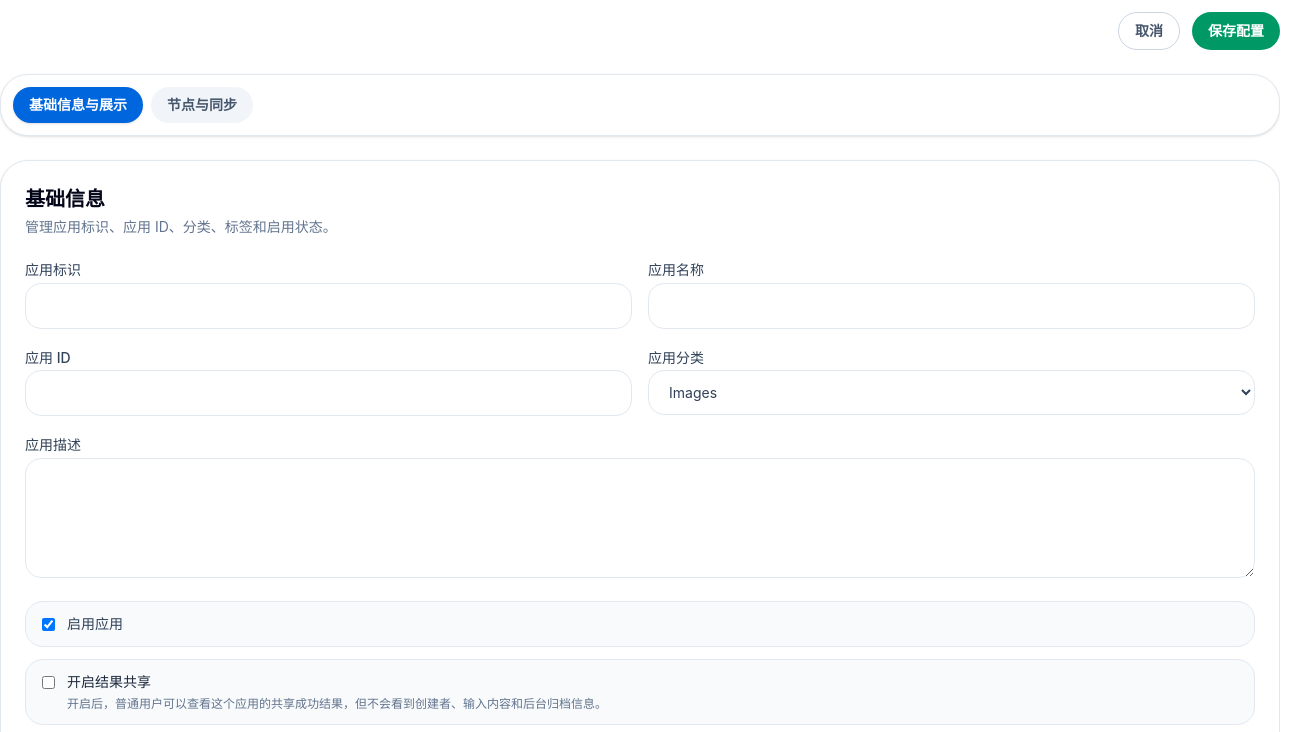
Test: AppFormEditor › uses provider app id as fallback code when the app name cannot produce an ASCII slug
Type "一键换装：完美替换衣物" into the field with test id "app-name-input" at (952, 306), box left=648, top=282, right=1255, bottom=328
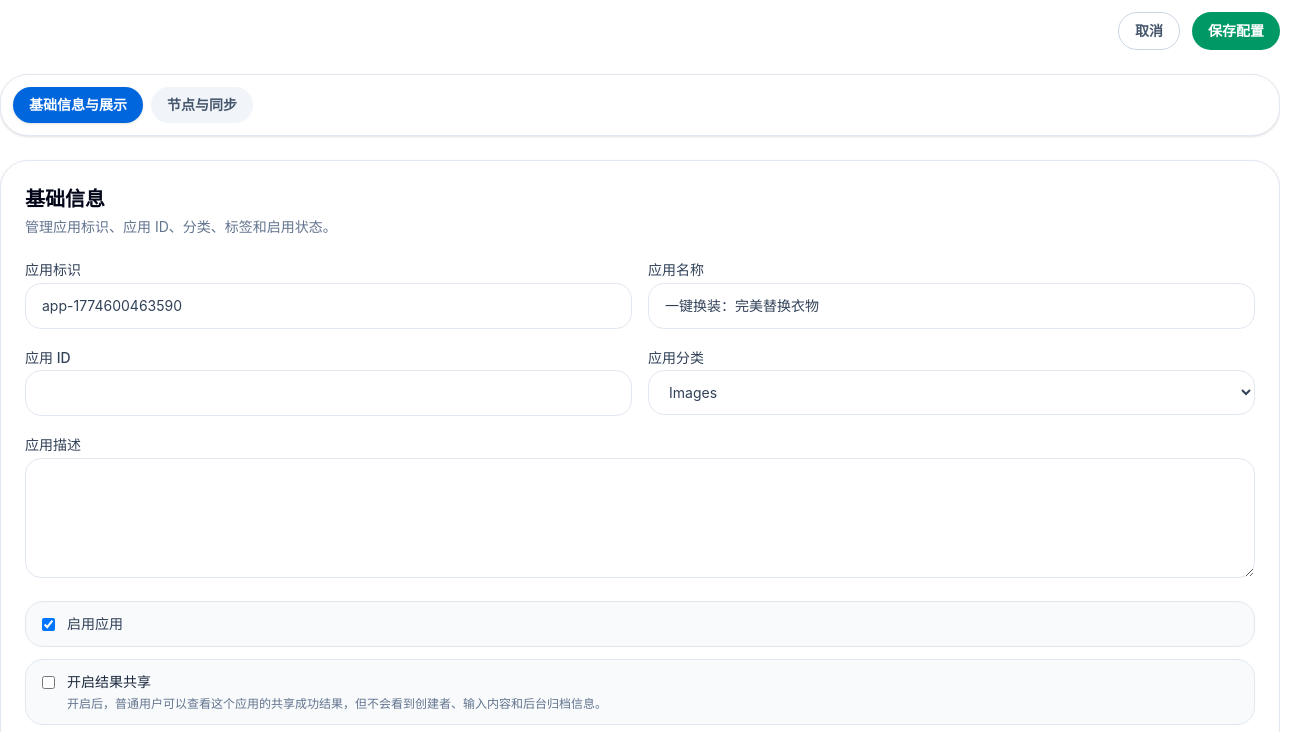
Type "2012848202482978818" into the field with test id "app-provider-app-id-input" at (328, 393), box left=25, top=370, right=632, bottom=416
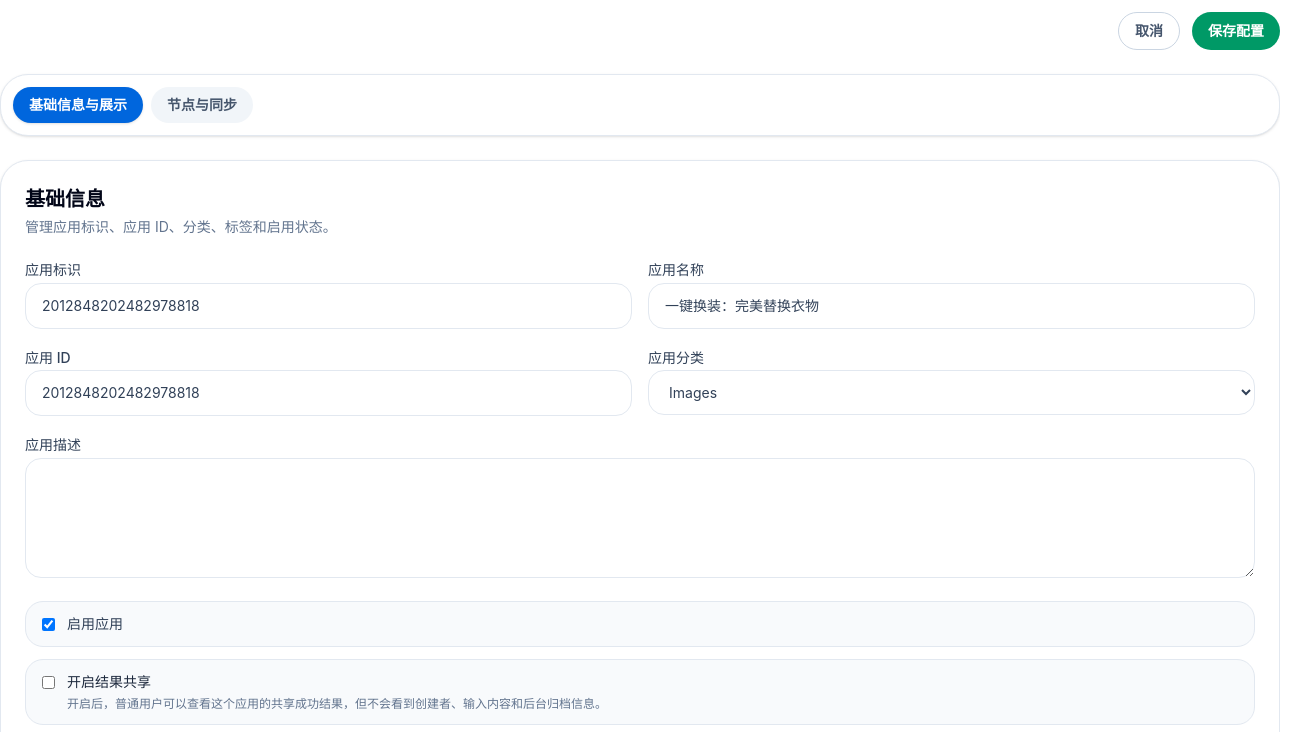
Expected: the field with test id "app-code-input" holds "2012848202482978818", left=25, top=282, right=632, bottom=328
